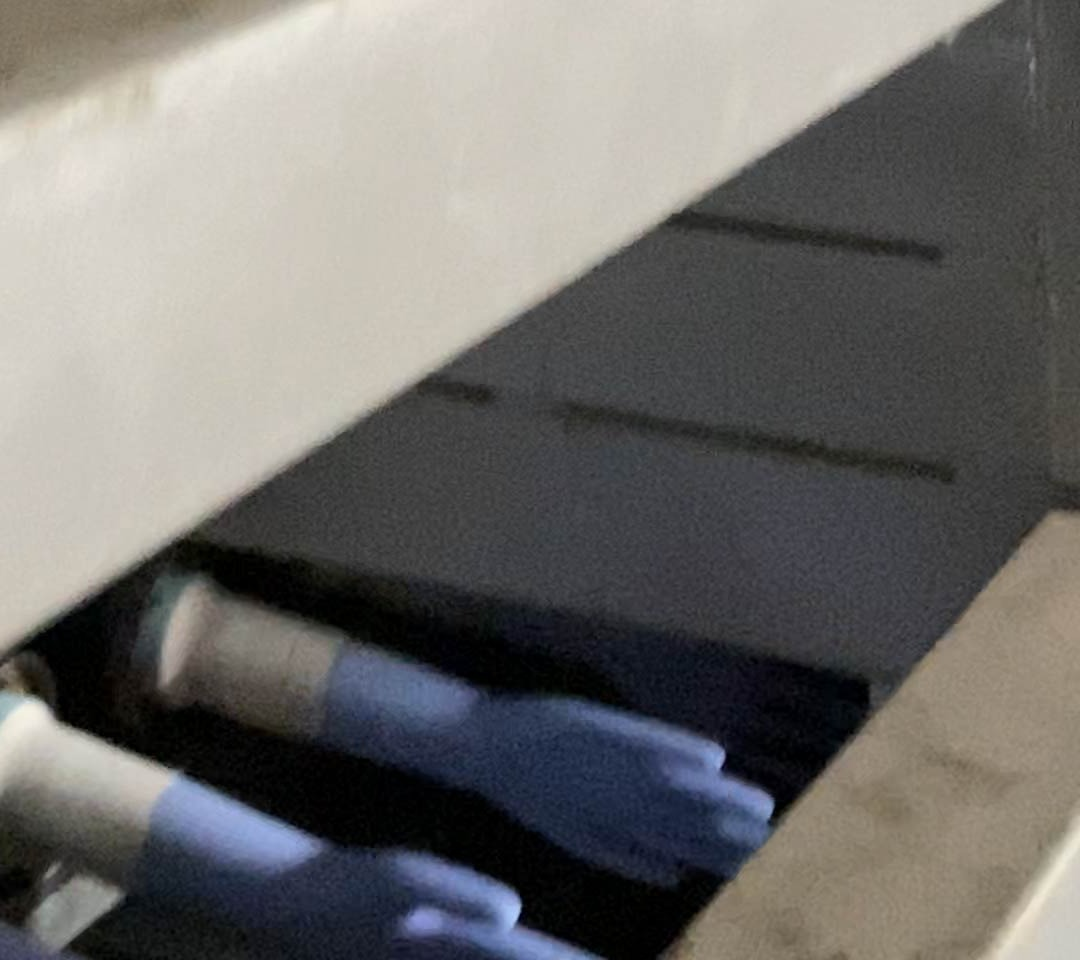glove: (317, 637, 774, 888), (125, 769, 620, 960)
